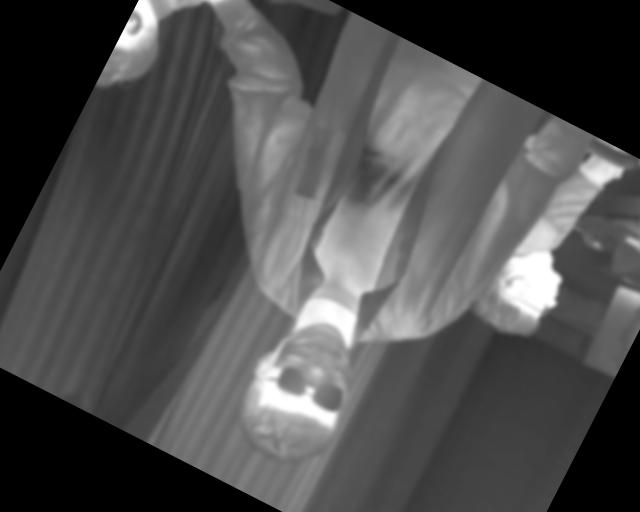face: (220, 300, 383, 482)
